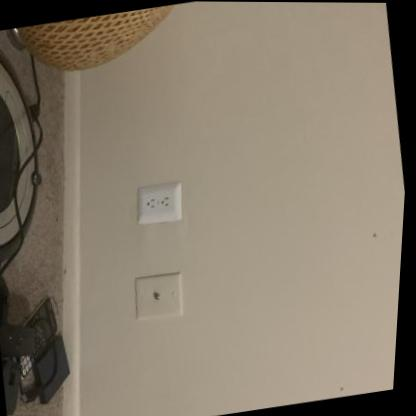OUTLET: (131, 178, 187, 224)
